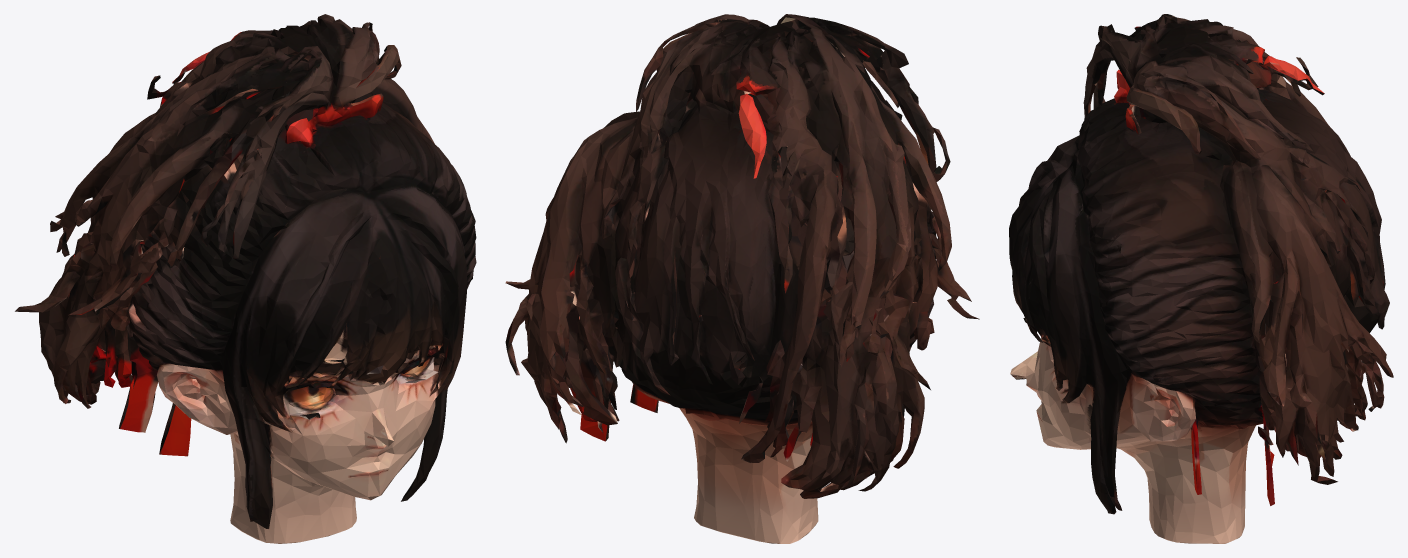
Rendered from side_seoko_repaired_atlas.glb.
3 renders of one model, left to right at view 1: azimuth 30°, elevation 25°; view 2: azimuth 150°, elevation 25°; view 3: azimuth 270°, elevation 25°, orthographic. The views are drawn at different scales.
Parts seen in each view (by area): view 1: temp_mesh.ply; view 2: temp_mesh.ply; view 3: temp_mesh.ply.
Boxes of the visible parts, x1,y1,x2,y2 form: temp_mesh.ply: (15,14,476,543); temp_mesh.ply: (505,14,979,543); temp_mesh.ply: (1009,14,1393,543).
Size of the model in its own units: 1.84 by 1.97 by 1.42.
1 material, 1 textured.
